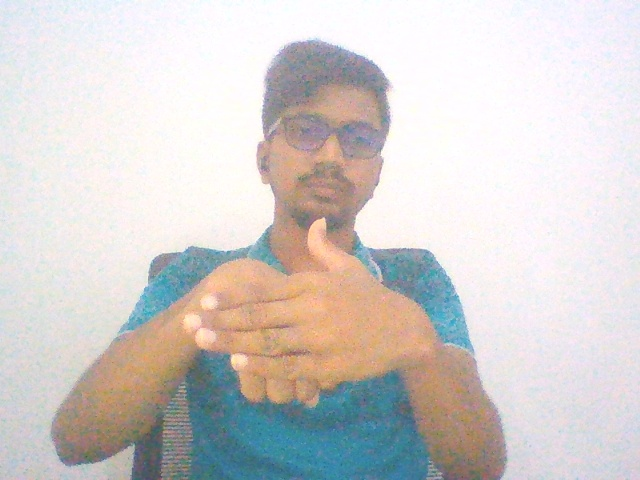pineapple: (163, 197, 451, 435)
